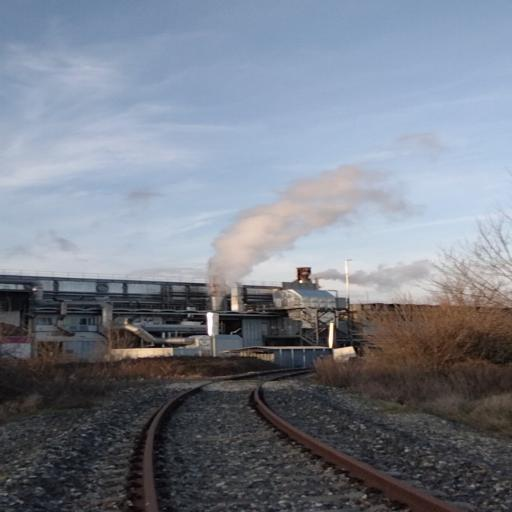leakage: (193, 125, 472, 316), (290, 249, 460, 301)
